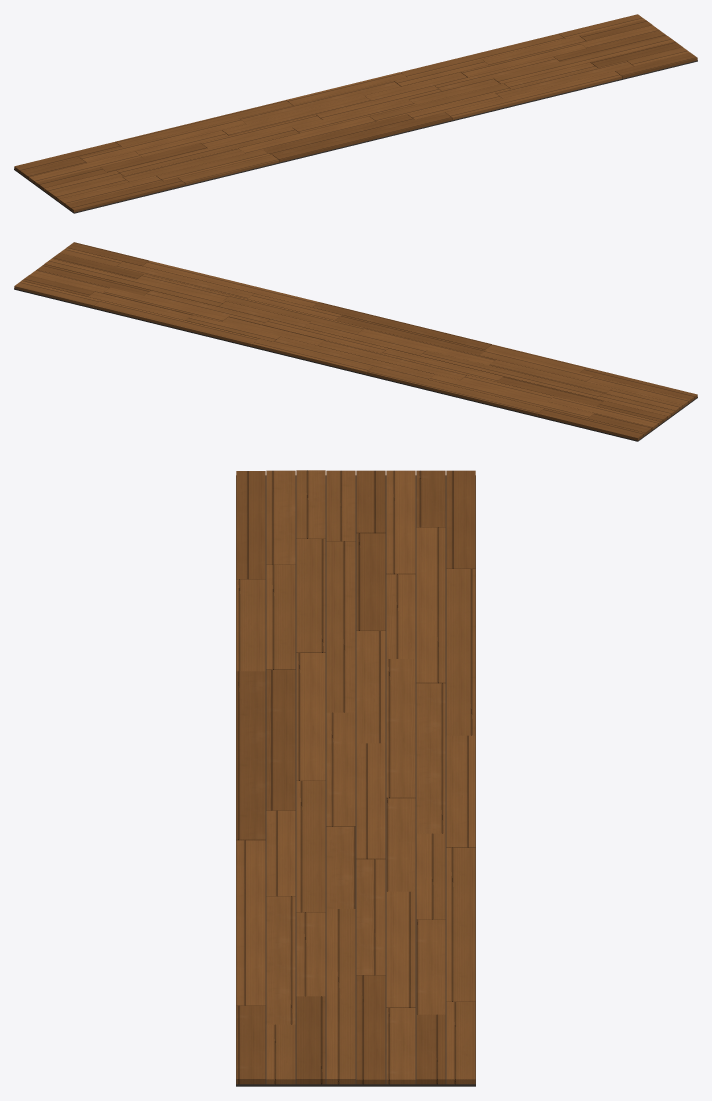
File: Floor_Tile.glb
3 renders of one model, top to bottom at view 1: azimuth 30°, elevation 25°; view 2: azimuth 150°, elevation 25°; view 3: azimuth 270°, elevation 25°, orthographic. The views are drawn at different scales.
Parts seen in each view (by area): view 1: Floor_Tile; view 2: Floor_Tile; view 3: Floor_Tile.
Boxes of the visible parts, box(x1,y1,x2,y2) form: Floor_Tile: box(14, 14, 697, 213); Floor_Tile: box(14, 242, 697, 441); Floor_Tile: box(236, 470, 475, 1086).
Size of the model in its own units: 12 by 0.067 by 2.
3 materials, 2 textured.
